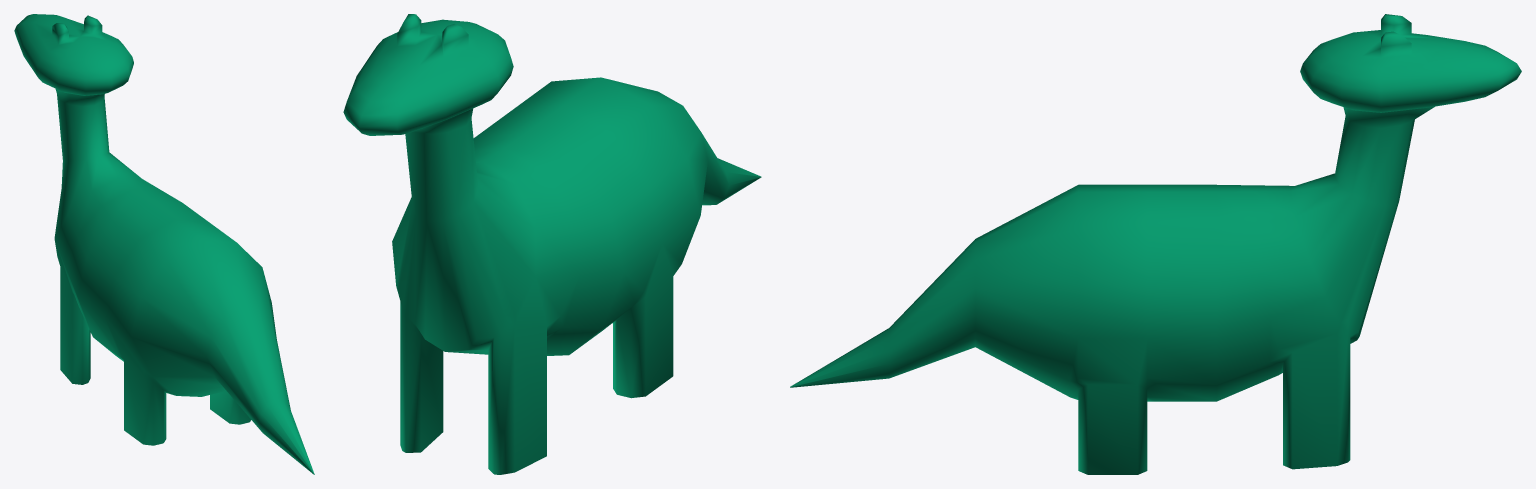
The model's file is drac01.fbx.
3 renders of one model, left to right at view 1: azimuth 30°, elevation 25°; view 2: azimuth 150°, elevation 25°; view 3: azimuth 270°, elevation 25°, orthographic. The views are drawn at different scales.
Visible parts, largest first — view 1: drac01; view 2: drac01; view 3: drac01.
Boxes of the visible parts, x1=… form: drac01: x1=14, y1=14, x2=314, y2=474; drac01: x1=343, y1=14, x2=761, y2=474; drac01: x1=790, y1=14, x2=1521, y2=474.
Bounding box in the file's own units: 2.62 × 5.79 × 9.25.
